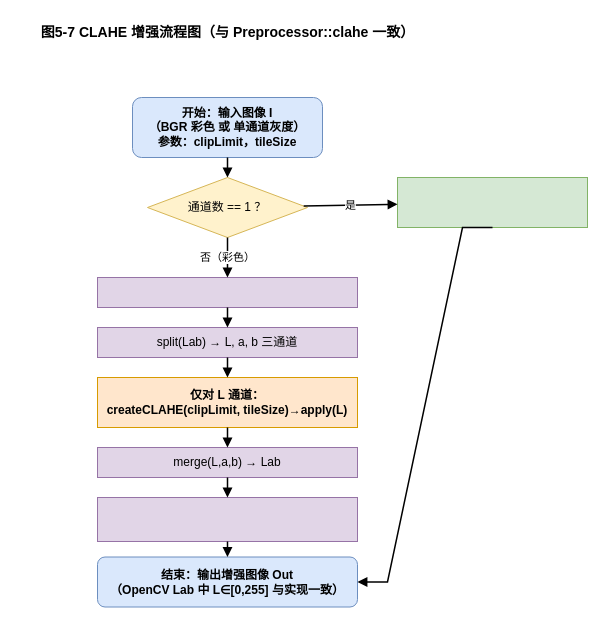
This 605x624 diagram has some shape labels left out. Here are the shapes that lost their labels. From the top down, the box of each, then its label:
(396, 176, 588, 228): createCLAHE(clipLimit, tileSize) 直接对整幅图 apply
(96, 276, 358, 308): cvtColor(I, Lab, COLOR_BGR2Lab)
(96, 496, 358, 542): cvtColor(Lab, Out, COLOR_Lab2BGR)
